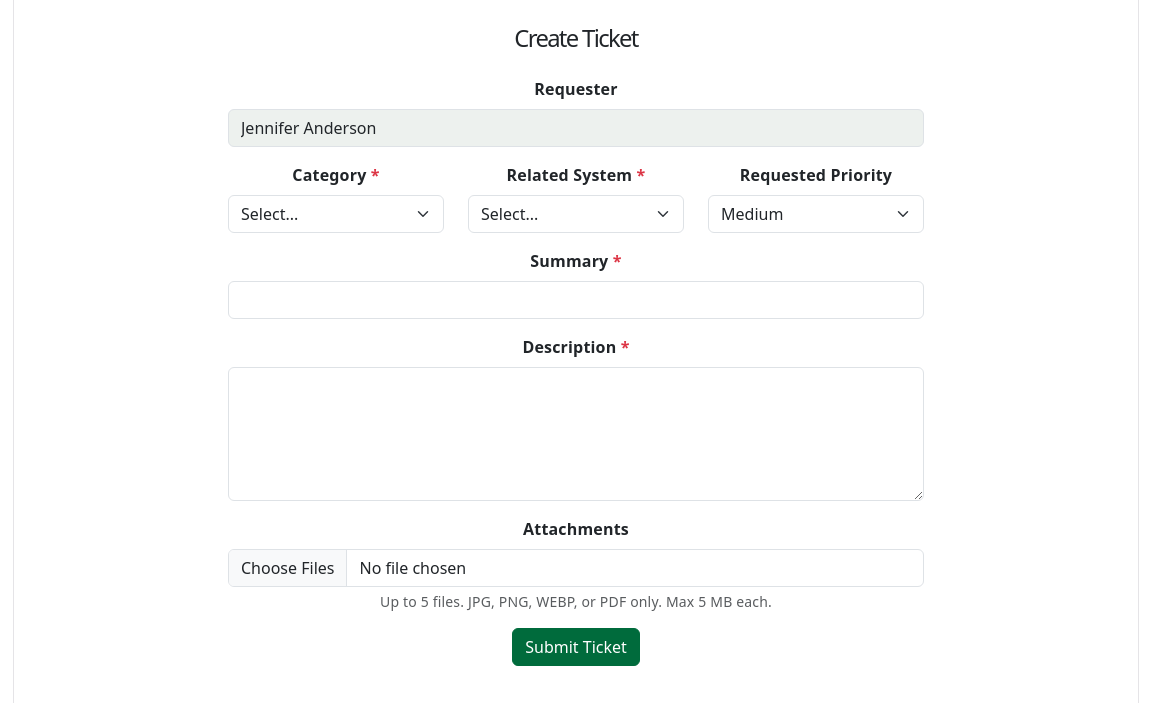
Test: CreateTicket › shows field validation errors when submitting empty required fields
Expected: the heading "Create Ticket" is shown, top-left (514, 22), bottom-right (638, 54)
What coordinates should you click on to do the following:
click the button "Submit Ticket"
I would click on:
 (576, 647)
Its box is top-left (512, 628), bottom-right (640, 666).
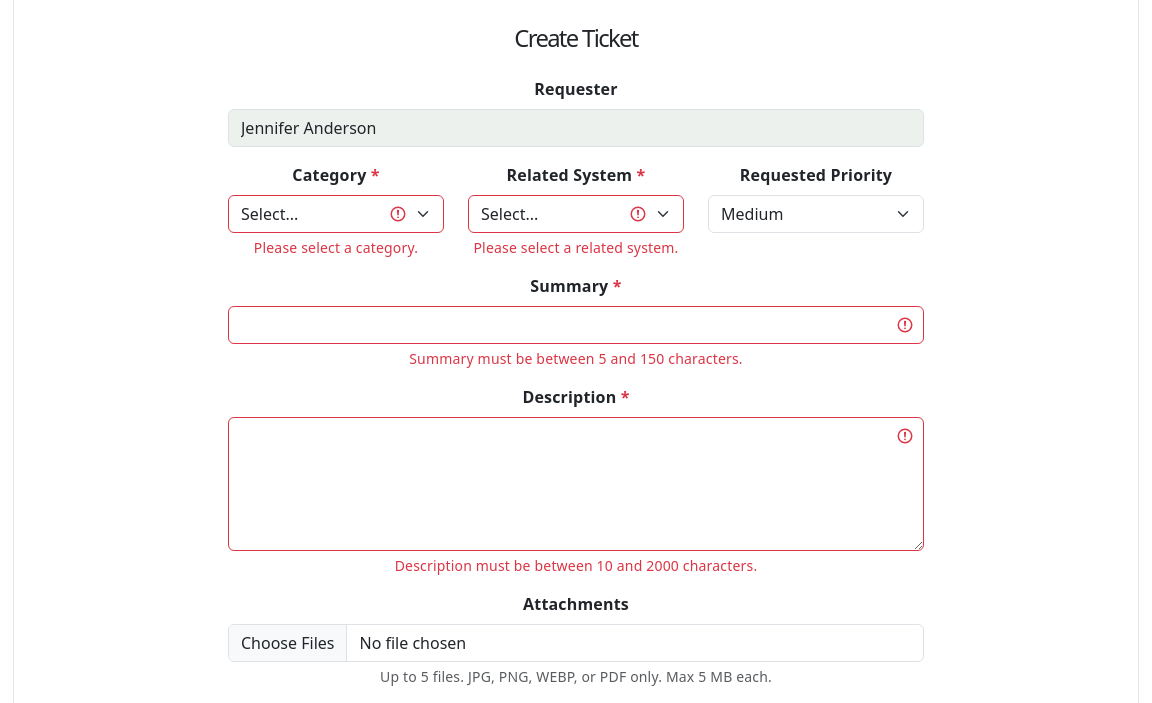
Expected: the text "Please select a category." is shown, top-left (254, 238), bottom-right (418, 257)
Expected: the text "Please select a related system." is shown, top-left (468, 237), bottom-right (684, 258)
